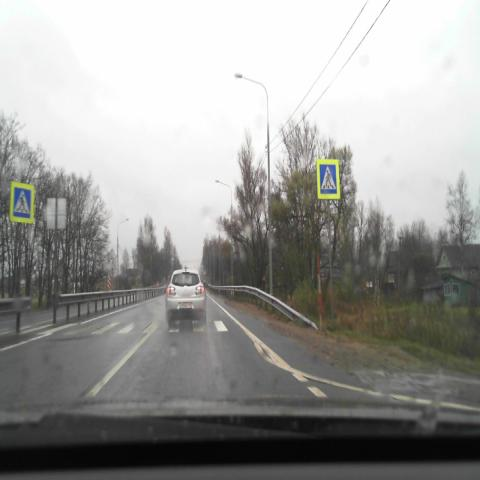5_19_1: (10, 182, 35, 224), (316, 159, 340, 199)
